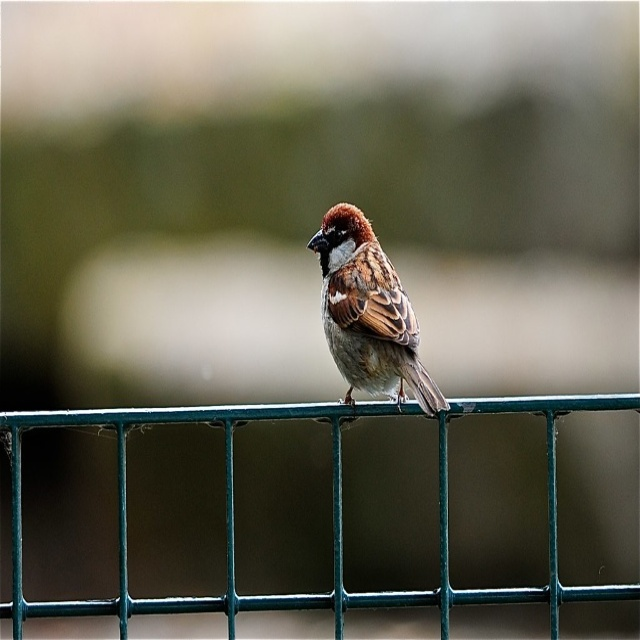Sparrow: (305, 201, 451, 422)
